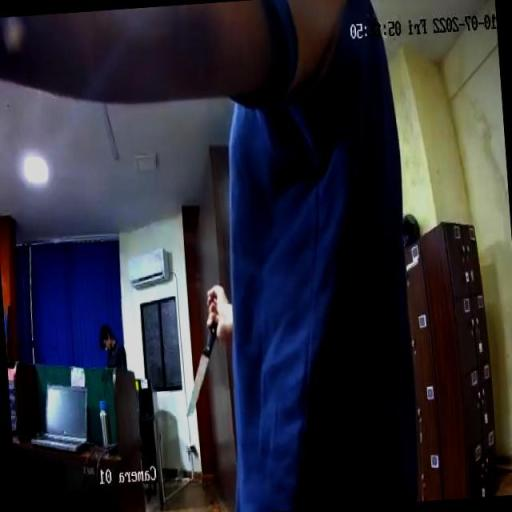knife: (177, 290, 227, 420)
